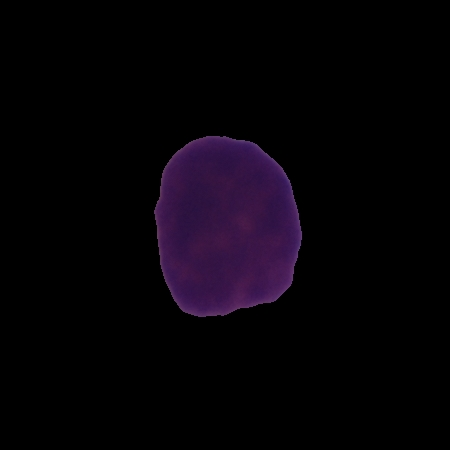ALL: (151, 133, 305, 321)
